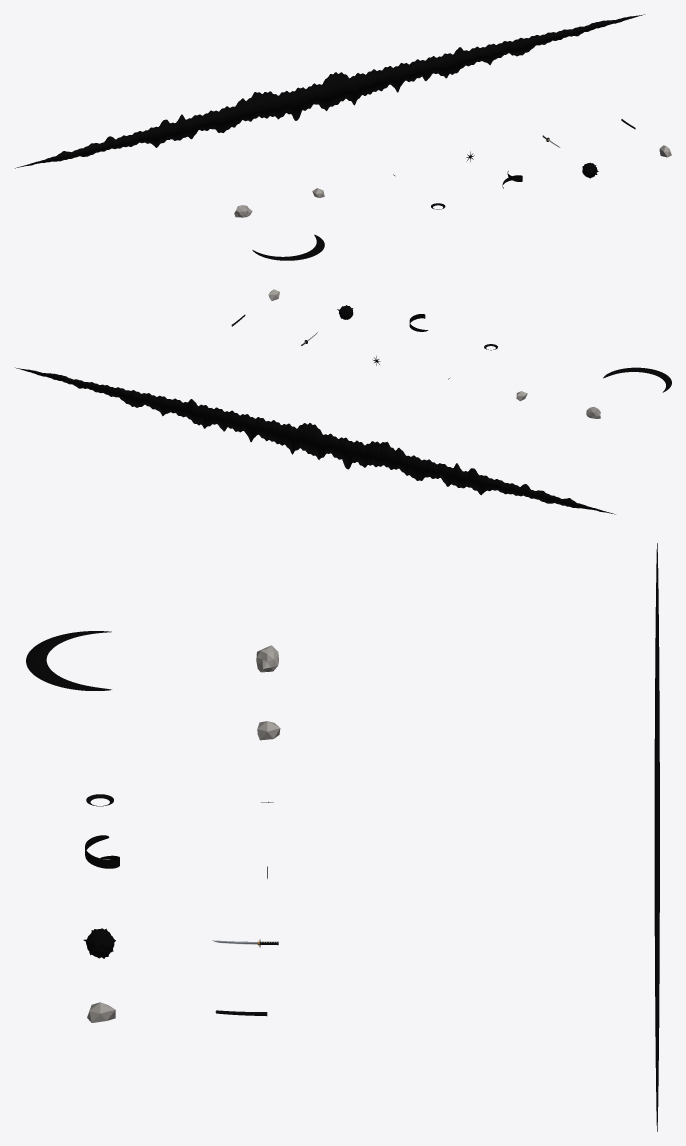
Rendered from YamiVFX_AllMeshes.fbx.
3 views of the same model, one above another, from view 1: azimuth 30°, elevation 25°; view 2: azimuth 150°, elevation 25°; view 3: azimuth 270°, elevation 25° (orthographic). The views are drawn at different scales.
Parts seen in each view (by area): view 1: DimensionRift, SlashArc; view 2: DimensionRift, SlashArc; view 3: DimensionRift, SlashArc.
Part boxes in pixels (x1,y1,x2,y2): DimensionRift: (15,14,645,168); SlashArc: (252,234,324,260); DimensionRift: (15,367,615,514); SlashArc: (603,367,671,392); DimensionRift: (654,543,659,1131); SlashArc: (26,631,111,690).
Bounding box in the file's own units: 100 × 5.94 × 45.52.
6 materials, 4 textured.
